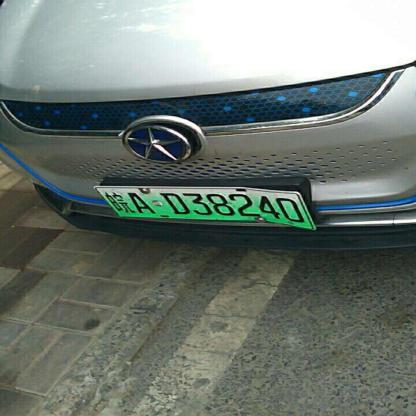lp: (95, 185, 315, 227)
